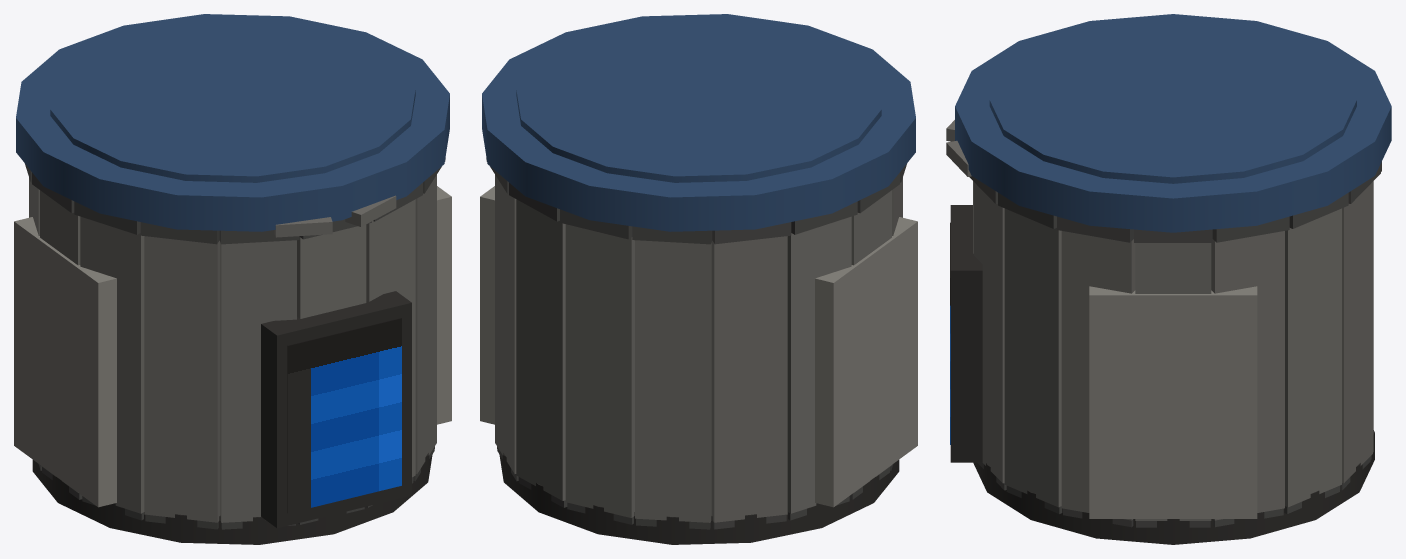
Rendered from CMU3DRMCBeakerHighCapacityMedicalSmallCloudLidStudy.glb.
3 views of the same model, side by side, from view 1: azimuth 30°, elevation 25°; view 2: azimuth 150°, elevation 25°; view 3: azimuth 270°, elevation 25° (orthographic).
Visible parts, largest first — view 1: lid inset top, removable solid closed lid, left raised protective rib, thin hollow vessel wall 10, original blue capacity window, thin hollow vessel wall 11, front recessed blue gauge bezel, thin hollow vessel wall 09, closed vessel floor, thin hollow vessel wall 14, thin hollow vessel wall 12, thin hollow vessel wall 13 (+7 smaller); view 2: lid inset top, removable solid closed lid, left raised protective rib, thin hollow vessel wall 05, thin hollow vessel wall 06, thin hollow vessel wall 04, thin hollow vessel wall 03, thin hollow vessel wall 07, closed vessel floor, thin hollow vessel wall 02, right raised protective rib, thin hollow vessel wall 08 (+5 smaller); view 3: lid inset top, right raised protective rib, removable solid closed lid, thin hollow vessel wall 14, thin hollow vessel wall 02, thin hollow vessel wall 15, thin hollow vessel wall 01, thin hollow vessel wall 03, front recessed blue gauge bezel, closed vessel floor, thin hollow vessel wall 13, thin hollow vessel wall 16 (+5 smaller).
Boxes of the visible parts, x1,y1,x2,y2 form: lid inset top: (50, 22, 415, 182); removable solid closed lid: (16, 14, 449, 231); left raised protective rib: (14, 217, 116, 507); thin hollow vessel wall 10: (144, 236, 220, 522); original blue capacity window: (287, 318, 401, 513); thin hollow vessel wall 11: (220, 240, 296, 522); front recessed blue gauge bezel: (261, 291, 411, 528); thin hollow vessel wall 09: (80, 216, 144, 513); closed vessel floor: (32, 453, 432, 544); thin hollow vessel wall 14: (415, 175, 436, 473); thin hollow vessel wall 12: (297, 224, 366, 318); thin hollow vessel wall 13: (366, 199, 415, 477); lid inset top: (516, 22, 881, 182); removable solid closed lid: (482, 14, 915, 231); left raised protective rib: (815, 217, 917, 507); thin hollow vessel wall 05: (635, 240, 711, 522); thin hollow vessel wall 06: (711, 236, 787, 522); thin hollow vessel wall 04: (565, 224, 634, 517); thin hollow vessel wall 03: (516, 199, 565, 500); thin hollow vessel wall 07: (787, 216, 851, 513); closed vessel floor: (499, 453, 899, 544); thin hollow vessel wall 02: (495, 175, 516, 473); right raised protective rib: (480, 186, 494, 424); thin hollow vessel wall 08: (851, 190, 891, 492); lid inset top: (989, 22, 1356, 183); right raised protective rib: (1089, 286, 1257, 518); removable solid closed lid: (955, 14, 1391, 232); thin hollow vessel wall 14: (1004, 208, 1061, 507); thin hollow vessel wall 02: (1285, 208, 1341, 507); thin hollow vessel wall 15: (1061, 231, 1135, 520); thin hollow vessel wall 01: (1211, 231, 1284, 520); thin hollow vessel wall 03: (1342, 182, 1372, 483); front recessed blue gauge bezel: (950, 205, 982, 462); closed vessel floor: (973, 430, 1374, 544); thin hollow vessel wall 13: (973, 182, 1004, 483); thin hollow vessel wall 16: (1135, 243, 1211, 520).
Bounding box in the file's own units: 0.52 × 0.473 × 0.5304.
Materials: 6 (1 with a texture image).
